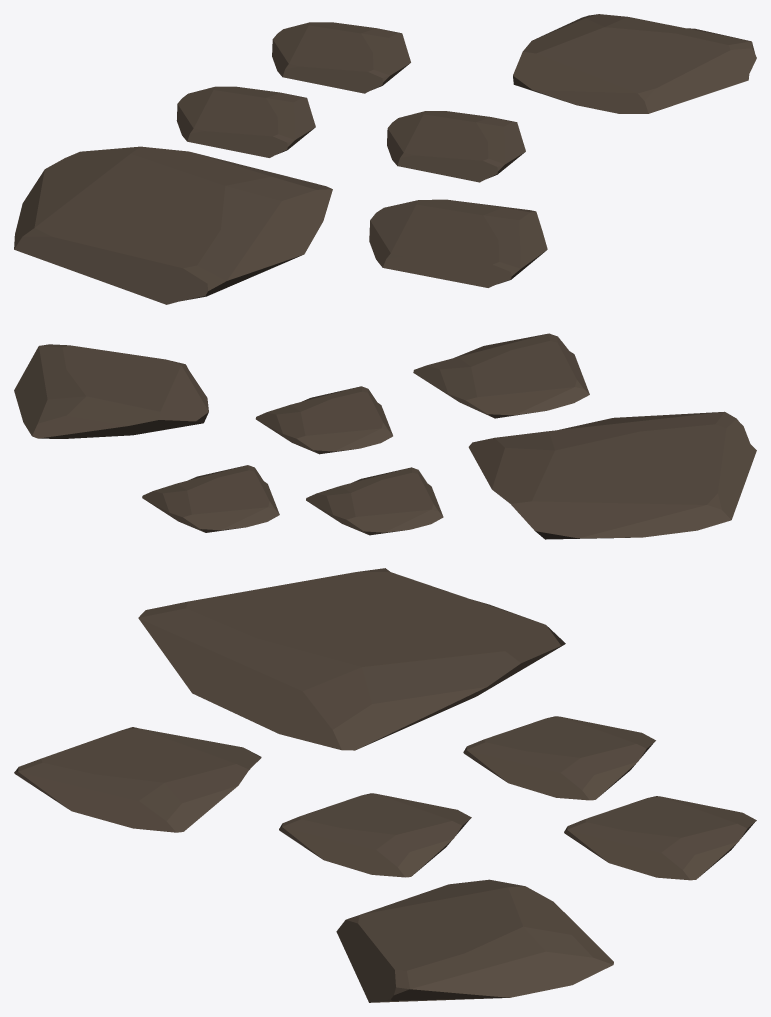
Rendered from road_rocks.fbx.
The picture shows the model from 3 angles, top to bottom: view 1: azimuth 30°, elevation 25°; view 2: azimuth 150°, elevation 25°; view 3: azimuth 270°, elevation 25°; orthographic projection. The views are drawn at different scales.
Visible parts, largest first — view 1: LowPolyRock.006; view 2: LowPolyRock.006; view 3: LowPolyRock.006.
Part boxes in pixels (left/top/right/bottom): LowPolyRock.006: left=14, top=14, right=756, bottom=304; LowPolyRock.006: left=14, top=333, right=756, bottom=539; LowPolyRock.006: left=14, top=568, right=756, bottom=1002.
Size of the model in its own units: 301 by 12.36 by 217.
